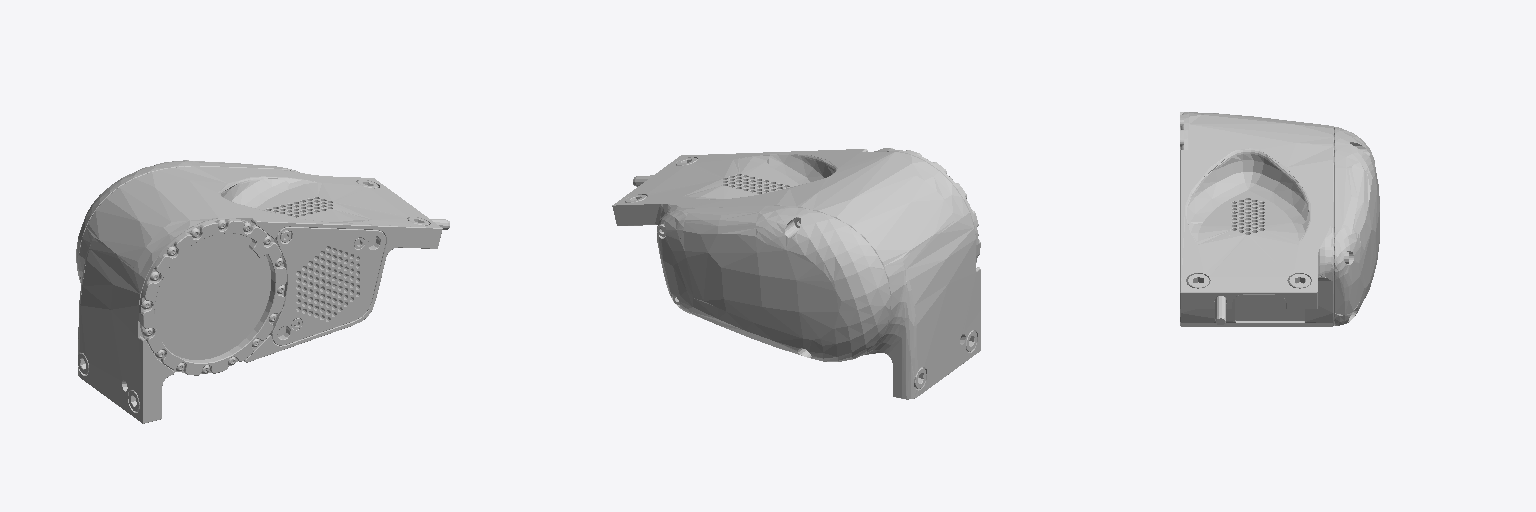
File: hip-roll-housing.obj
3 renders of one model, left to right at view 1: azimuth 30°, elevation 25°; view 2: azimuth 150°, elevation 25°; view 3: azimuth 270°, elevation 25°, orthographic.
Visible parts, largest first — view 1: hip-roll-housing; view 2: hip-roll-housing; view 3: hip-roll-housing.
Part boxes in pixels (bbox=[...]): hip-roll-housing: bbox=[76, 160, 449, 423]; hip-roll-housing: bbox=[612, 148, 980, 399]; hip-roll-housing: bbox=[1180, 112, 1379, 326].
Size of the model in its own units: 0.1671 by 0.09 by 0.0889.